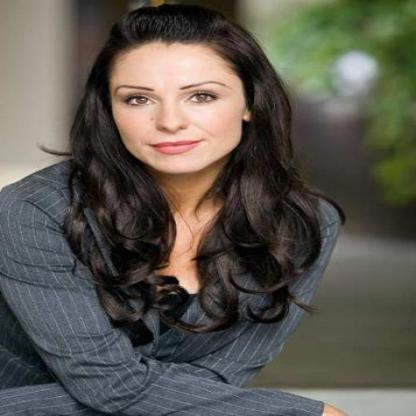long-hair: (53, 172, 311, 240)
